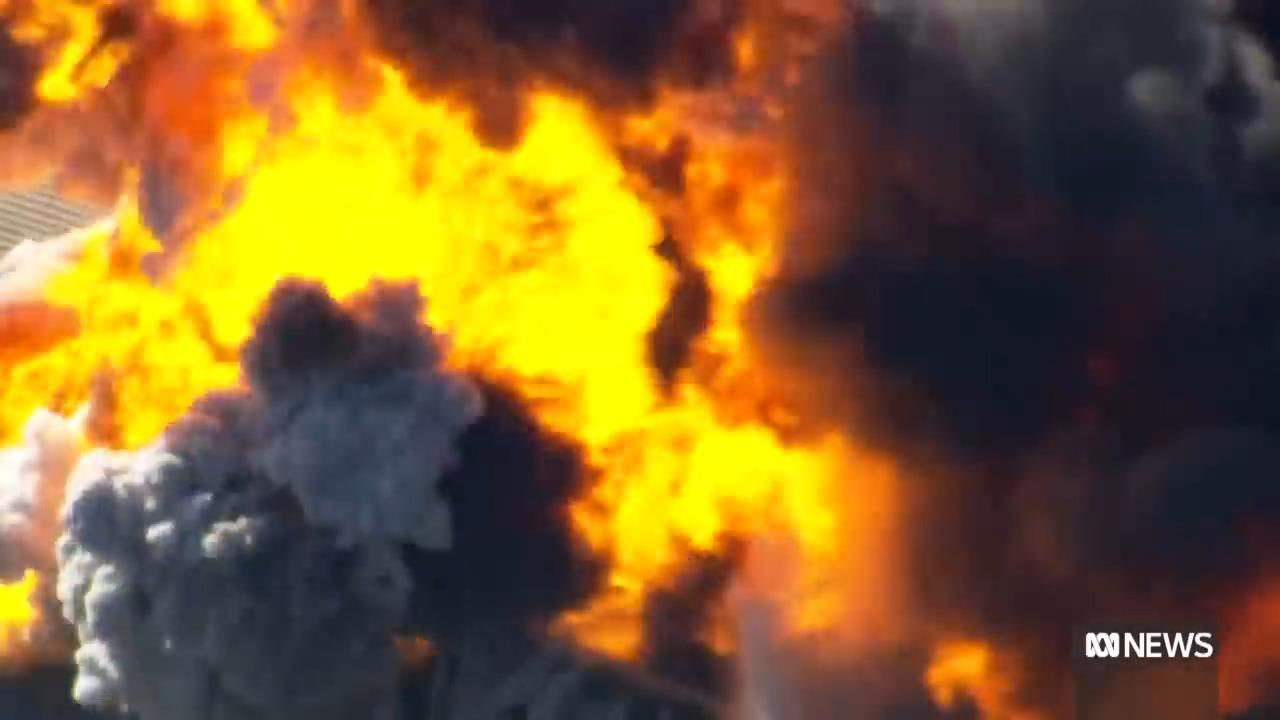fire: (2, 0, 259, 582), (524, 99, 693, 417), (273, 87, 478, 295), (586, 406, 841, 536), (694, 54, 819, 199), (699, 203, 779, 353), (463, 153, 552, 282), (444, 249, 534, 363), (593, 549, 676, 653), (197, 0, 335, 62), (927, 649, 1038, 718), (0, 571, 46, 650)
